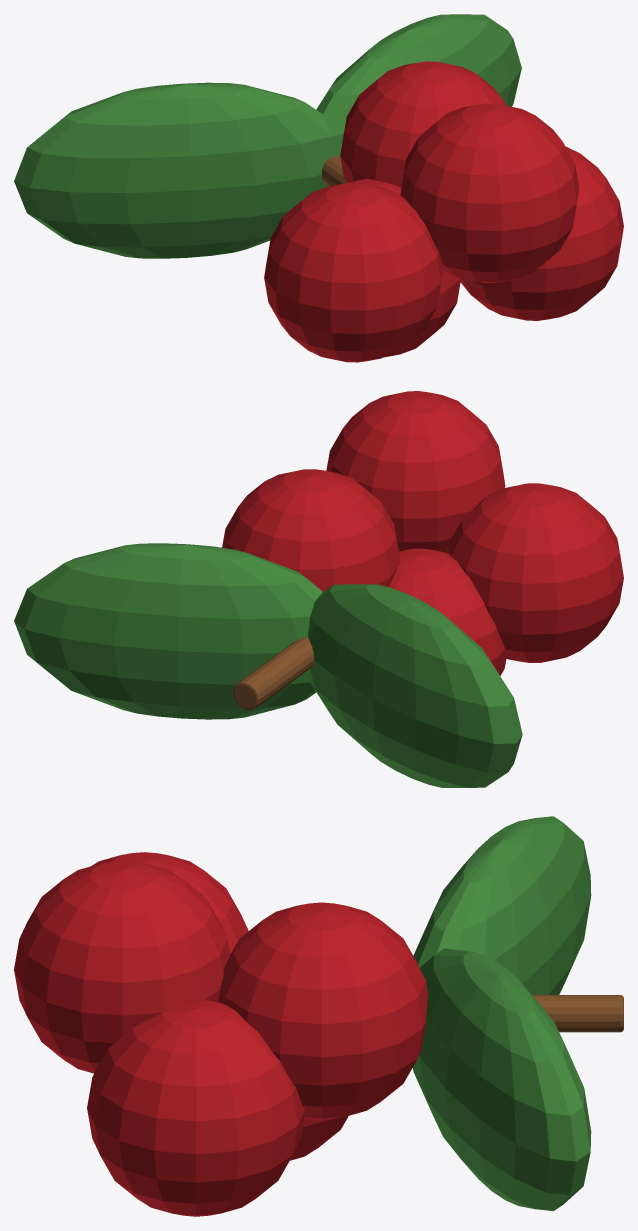
Rendered from berries.glb.
3 views of the same model, one above another, from view 1: azimuth 30°, elevation 25°; view 2: azimuth 150°, elevation 25°; view 3: azimuth 270°, elevation 25° (orthographic). The views are drawn at different scales.
Parts seen in each view (by area): view 1: Leaf, Berry_00, Berry_01, Berry_04, Berry_02, Leaf.001, Berry_03, Stem; view 2: Leaf.001, Leaf, Berry_00, Berry_01, Berry_04, Berry_03, Stem; view 3: Berry_02, Leaf.001, Berry_04, Berry_01, Leaf, Berry_00, Stem, Berry_03.
Boxes of the visible parts, box(x1,y1,x2,y2) form: Leaf: box(14, 82, 333, 258); Berry_00: box(264, 183, 443, 362); Berry_01: box(400, 103, 579, 282); Berry_04: box(340, 61, 506, 187); Berry_02: box(460, 146, 623, 320); Leaf.001: box(316, 14, 521, 156); Berry_03: box(345, 179, 461, 356); Stem: box(321, 156, 346, 186); Leaf.001: box(14, 543, 322, 719); Leaf: box(308, 584, 522, 787); Berry_00: box(446, 483, 623, 662); Berry_01: box(326, 391, 505, 552); Berry_04: box(222, 469, 400, 591); Berry_03: box(389, 548, 506, 675); Stem: box(233, 637, 313, 709); Berry_02: box(87, 1000, 305, 1216); Leaf.001: box(413, 948, 591, 1210); Berry_04: box(218, 902, 427, 1119); Berry_01: box(14, 861, 230, 1073); Leaf: box(413, 816, 591, 994); Berry_00: box(91, 852, 248, 953); Stem: box(532, 995, 623, 1032); Berry_03: box(230, 953, 348, 1160).
Size of the model in its own units: 0.6715 by 0.34 by 0.585.
